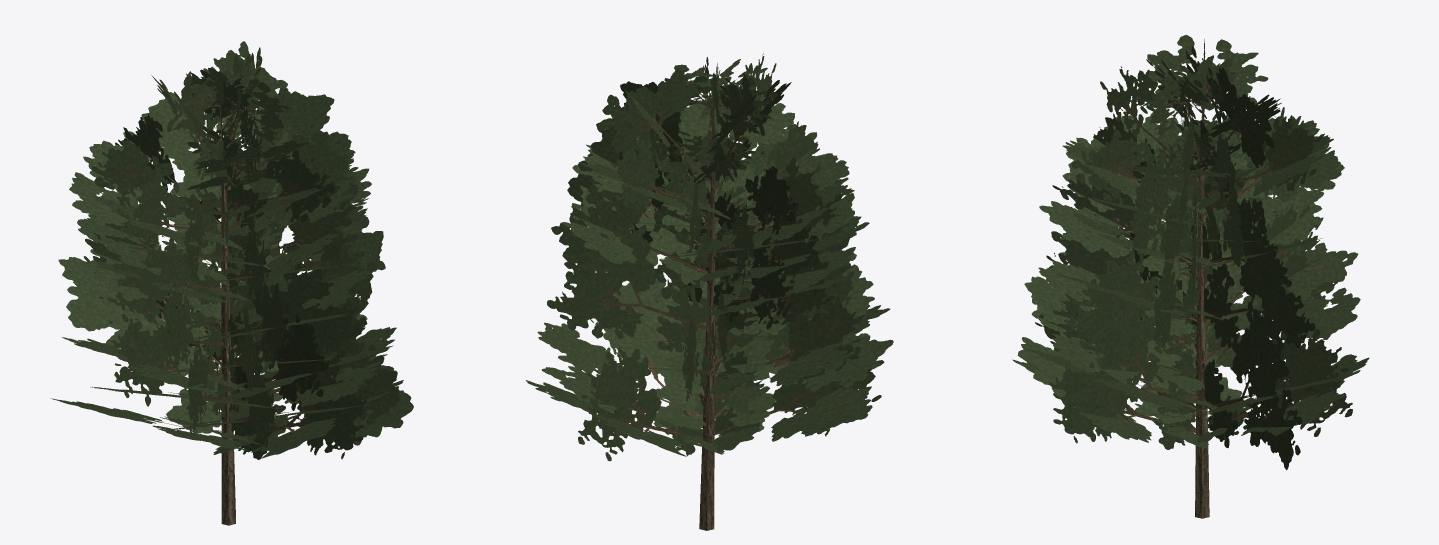
Rendered from tree-06.glb.
3 renders of one model, left to right at view 1: azimuth 30°, elevation 25°; view 2: azimuth 150°, elevation 25°; view 3: azimuth 270°, elevation 25°, orthographic.
Visible parts, largest first — view 1: Tilia_europaea_mature_03_LoD2A_summer_obj0_trunk; view 2: Tilia_europaea_mature_03_LoD2A_summer_obj0_trunk; view 3: Tilia_europaea_mature_03_LoD2A_summer_obj0_trunk.
Boxes of the visible parts, bbox=[...] form: Tilia_europaea_mature_03_LoD2A_summer_obj0_trunk: bbox=[50, 41, 413, 525]; Tilia_europaea_mature_03_LoD2A_summer_obj0_trunk: bbox=[526, 53, 893, 530]; Tilia_europaea_mature_03_LoD2A_summer_obj0_trunk: bbox=[1012, 34, 1369, 518].
Bounding box in the file's own units: 15.76 × 19.19 × 15.82.
Materials: 1 (1 with a texture image).
